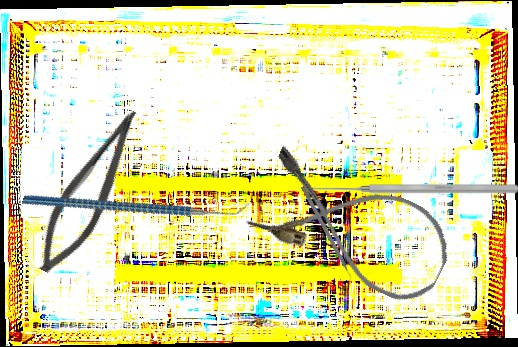Cannula: (244, 140, 463, 313)
Chopper: (21, 118, 252, 286), (295, 185, 356, 287)
Micro Scissor: (26, 97, 149, 284)
Pusher: (312, 182, 518, 195)
